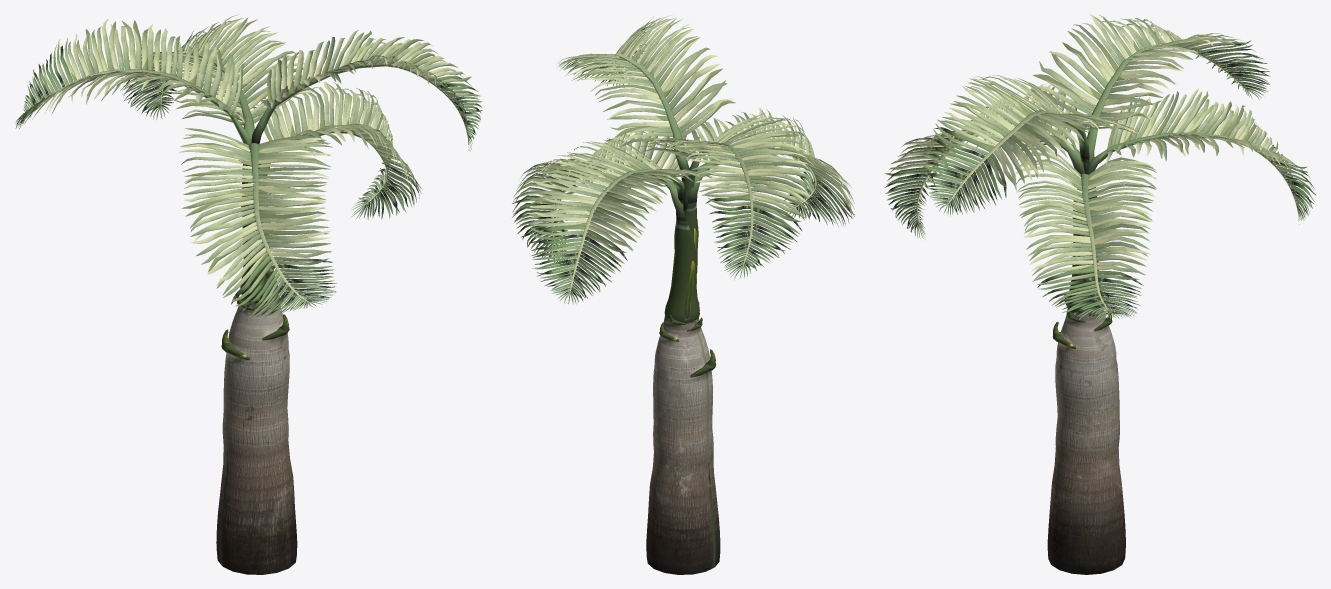
The model's file is treeSwamp1.glb.
The picture shows the model from 3 angles, left to right: view 1: azimuth 30°, elevation 25°; view 2: azimuth 150°, elevation 25°; view 3: azimuth 270°, elevation 25°; orthographic projection. The views are drawn at different scales.
Visible parts, largest first — view 1: hyophorbe_lagenicaulis_med_trunk; view 2: hyophorbe_lagenicaulis_med_trunk; view 3: hyophorbe_lagenicaulis_med_trunk.
Boxes of the visible parts, x1,y1,x2,y2 form: hyophorbe_lagenicaulis_med_trunk: (15,14,482,574); hyophorbe_lagenicaulis_med_trunk: (512,14,854,574); hyophorbe_lagenicaulis_med_trunk: (884,14,1316,574).
Bounding box in the file's own units: 2.34 × 3.31 × 2.54.
1 material, 1 textured.
